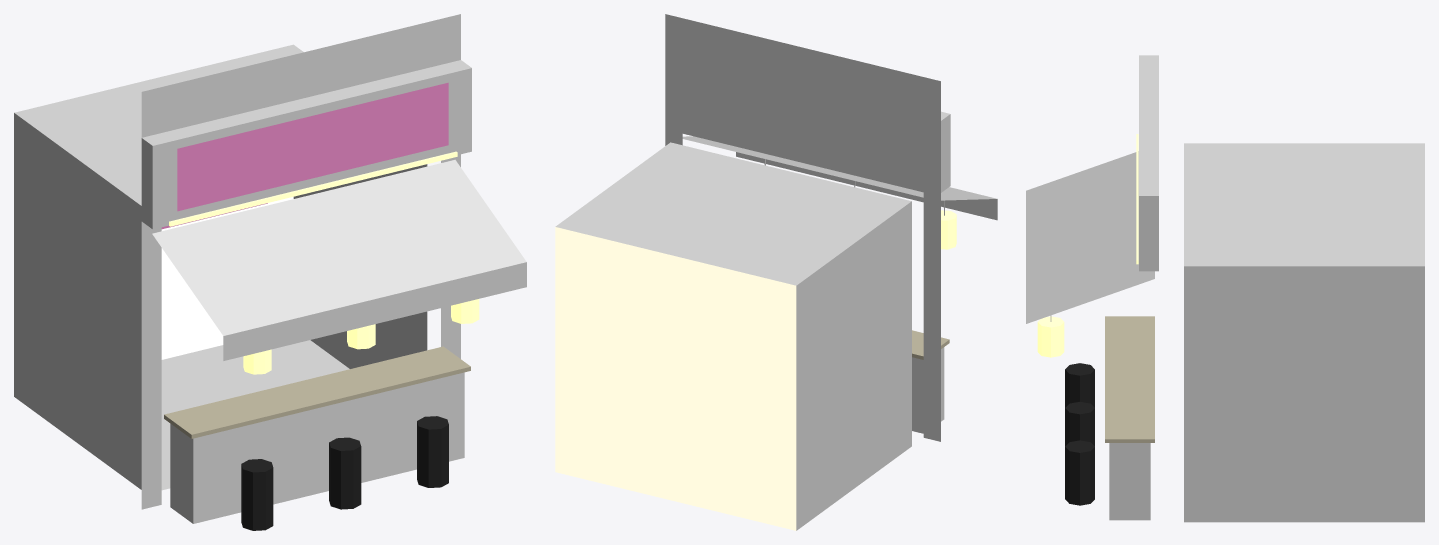
The model's file is OCK_Bay_Storefront_C.fbx.
3 views of the same model, side by side, from view 1: azimuth 30°, elevation 25°; view 2: azimuth 150°, elevation 25°; view 3: azimuth 270°, elevation 25° (orthographic). The views are drawn at different scales.
Parts seen in each view (by area): view 1: OCK_Bay_Storefront_C; view 2: OCK_Bay_Storefront_C; view 3: OCK_Bay_Storefront_C.
Part boxes in pixels (box(x1,y1,x2,y2)): OCK_Bay_Storefront_C: box(14, 14, 526, 530); OCK_Bay_Storefront_C: box(555, 14, 997, 530); OCK_Bay_Storefront_C: box(1026, 55, 1424, 522).
Bounding box in the file's own units: 400 × 500 × 480.
